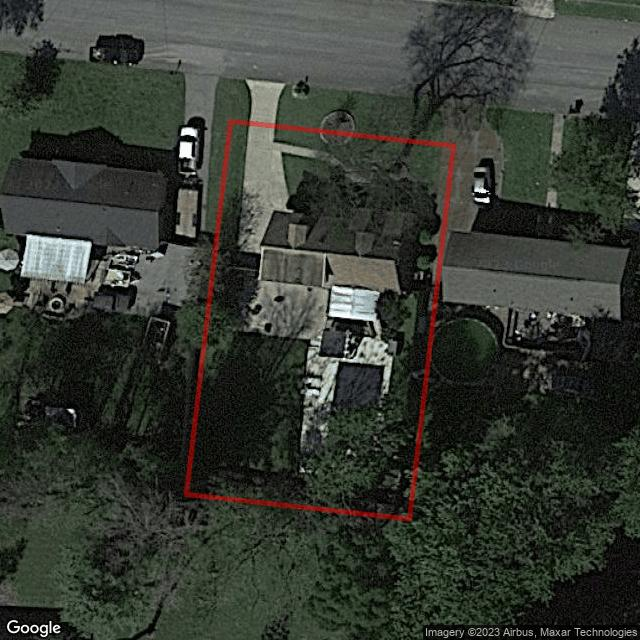Driveway: (239, 126, 319, 252), (301, 344, 340, 449)
Extra Driveway: (247, 80, 284, 123)
Extra Lawn: (277, 85, 455, 143)
House: (254, 245, 407, 359)
Other: (320, 110, 354, 132), (320, 134, 351, 144)
